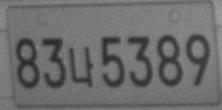3: (127, 35, 152, 87), (42, 37, 67, 88)
5: (101, 36, 125, 88)
8: (156, 33, 183, 86), (15, 37, 39, 88)
9: (185, 33, 210, 85)
나: (68, 46, 94, 87)
